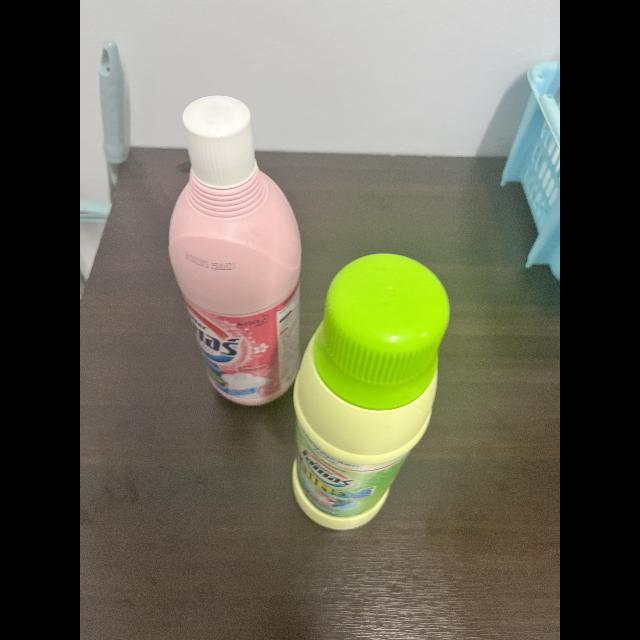chemical_plastic_bottle: (273, 251, 452, 533), (164, 88, 302, 416)
